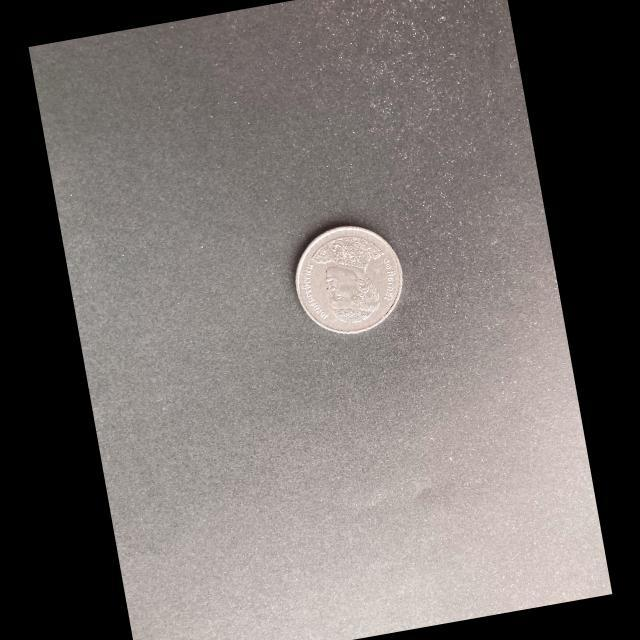1 Bath: (294, 222, 408, 340)
